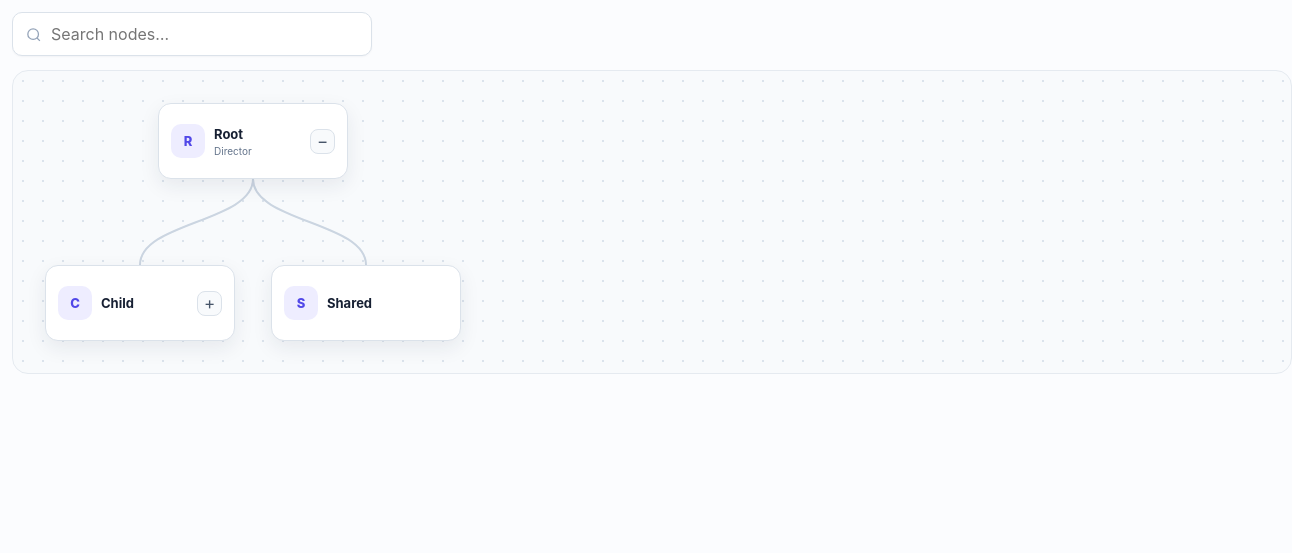
Test: HierarchyView › loads children transactionally once and expands the node
This screenshot has width=1292, height=553.
Click the button named "Expand Child" at (210, 303), box x1=197 y1=290 x2=222 y2=316
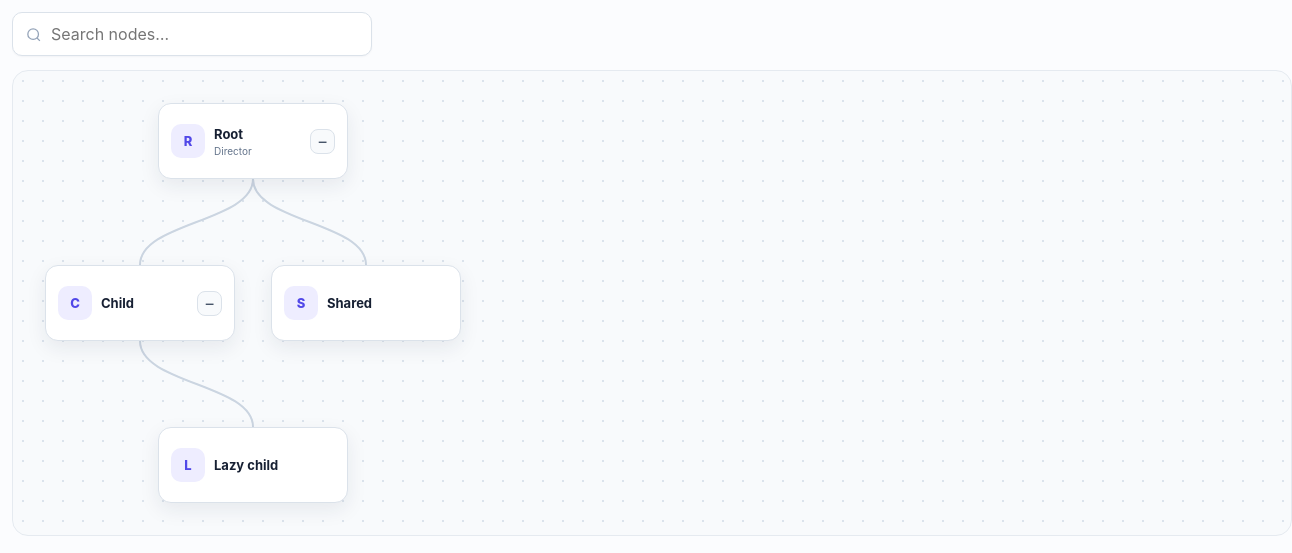
Now the text "Lazy child" is shown, box x1=214 y1=457 x2=278 y2=473
